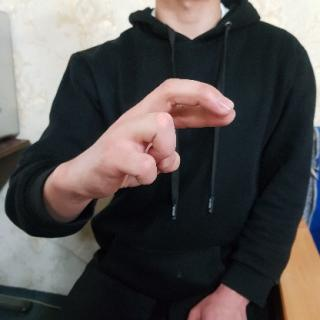ZAY: (72, 76, 244, 198)
